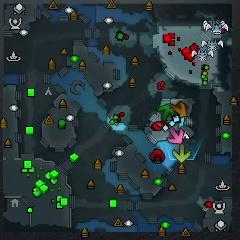x1: (167, 127, 185, 143)
x2: (172, 145, 191, 163)
x3: (170, 113, 185, 128)
x4: (158, 103, 175, 121)
x5: (170, 101, 186, 117)
